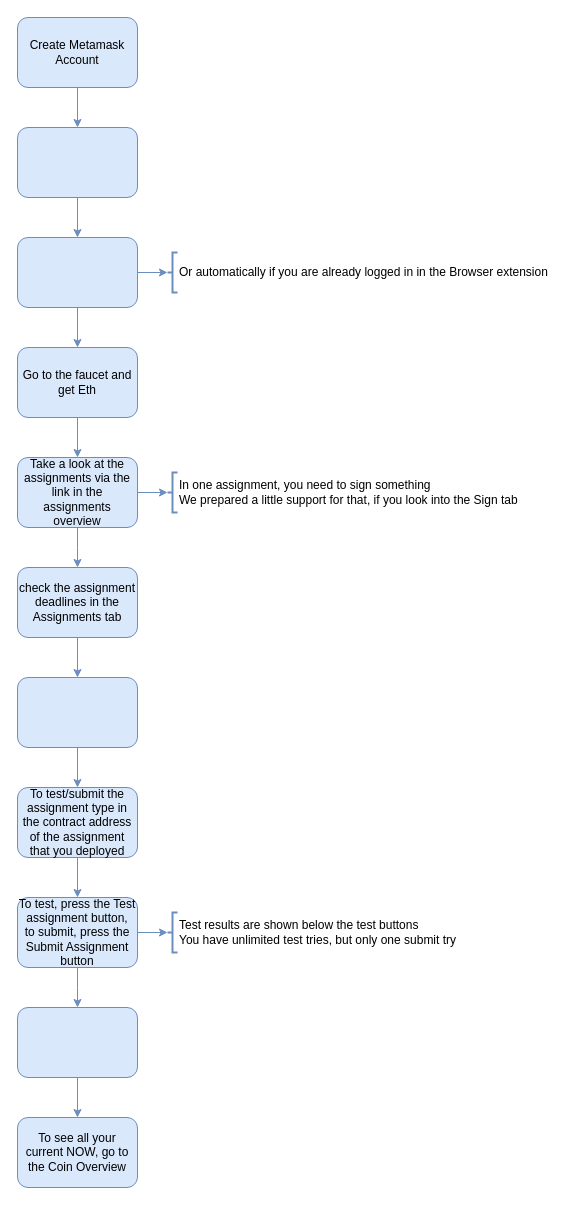
The diagram is 566 pixels wide and 1205 high, and some of its shapes have lost their labels. Here are the shapes that lost their labels. From the top down, the box of each, then its label:
(16, 126, 138, 198): Take ILIAS survey to submit your public address and student ID
(16, 236, 138, 308): Connect Metamask Wallet to Knowledge Base in the top right corner of the website
(16, 676, 138, 748): If you want to test/submit your assignment, go to Submit assignment
(16, 1006, 138, 1078): The results of your submission are shown below the Submit button
